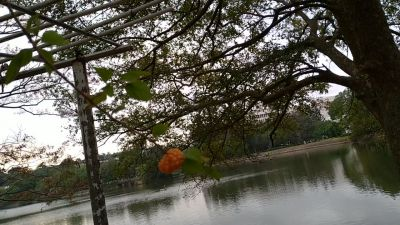eggs: (160, 149, 183, 173)
